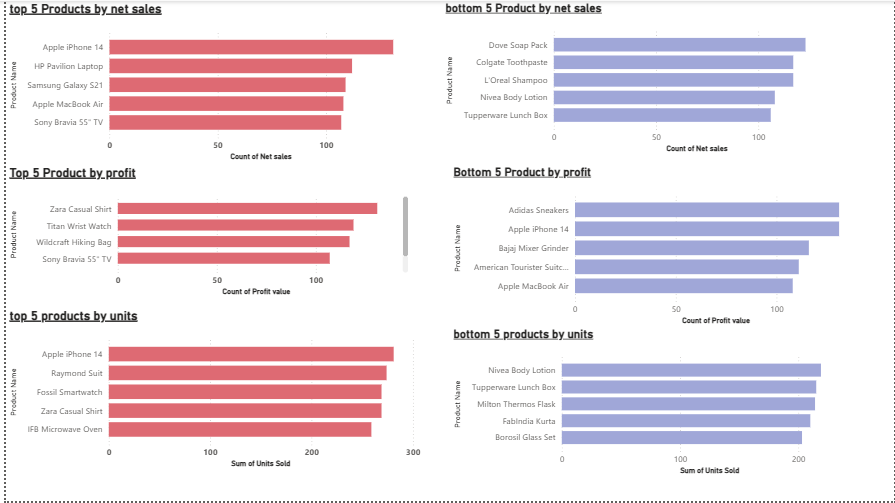

The page's visual inventory and layout, read from the dashboard file:
{"tool":"powerbi","page":{"name":"top/bottom ","canvas":[1280,720],"ordinal":0},"visuals":[{"type":"barChart","title":"top 5 Products by net sales","fields":{"Y":["CountNonNull(fact table.Net sales)"],"Category":["Dim Product.Product Name"]},"box":[0,0,601.7,235],"z":0},{"type":"barChart","title":"bottom 5 Product by net sales","fields":{"Y":["CountNonNull(fact table.Net sales)"],"Category":["Dim Product.Product Name"]},"box":[627.1,0,588.6,222.9],"z":1000},{"type":"barChart","title":"top 5 products by units","fields":{"Y":["Sum(fact table.Units Sold)"],"Category":["Dim Product.Product Name"]},"box":[0,441.4,602,235],"z":4000},{"type":"barChart","title":"bottom 5 products by units","fields":{"Y":["Sum(fact table.Units Sold)"],"Category":["Dim Product.Product Name"]},"box":[640,470,602,217],"z":5000},{"type":"barChart","title":"Top 5 Product by profit","fields":{"Category":["Dim Product.Product Name"],"Y":["CountNonNull(fact table.Profit value)"]},"box":[0,235.7,584.3,192.9],"z":5001},{"type":"barChart","title":"Bottom 5 Product by profit","fields":{"Category":["Dim Product.Product Name"],"Y":["CountNonNull(fact table.Profit value)"]},"box":[640,235.7,601.4,234.3],"z":5002}]}

Visuals, with their boxes in screenshot pixels (x1, y1, x2, y2), scaled from the page's 1280x720 canvas onto the 895x503 screenshot:
"top 5 Products by net sales" barChart: [0, 0, 421, 164]
"bottom 5 Product by net sales" barChart: [438, 0, 850, 156]
"top 5 products by units" barChart: [0, 308, 421, 473]
"bottom 5 products by units" barChart: [448, 328, 868, 480]
"Top 5 Product by profit" barChart: [0, 165, 409, 299]
"Bottom 5 Product by profit" barChart: [448, 165, 868, 328]
